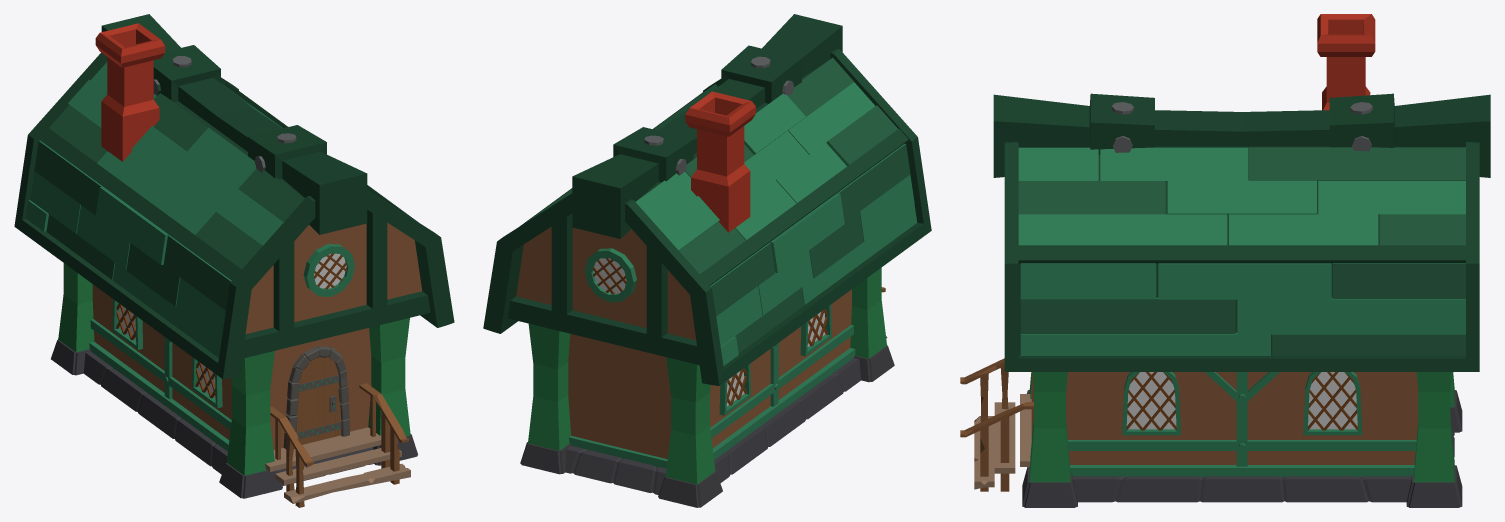
File: SM_Hous_09_A.gltf
3 views of the same model, side by side, from view 1: azimuth 30°, elevation 25°; view 2: azimuth 150°, elevation 25°; view 3: azimuth 270°, elevation 25° (orthographic). The views are drawn at different scales.
Parts seen in each view (by area): view 1: SM_Hous_09_A; view 2: SM_Hous_09_A; view 3: SM_Hous_09_A.
Part boxes in pixels (box(x1,y1,x2,y2)): SM_Hous_09_A: box(14, 14, 454, 507); SM_Hous_09_A: box(483, 14, 931, 507); SM_Hous_09_A: box(960, 14, 1490, 507).
Size of the model in its own units: 5.48 by 8.05 by 9.52.
